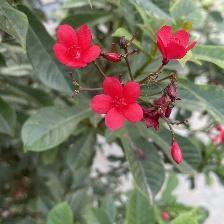jatropha: (91, 76, 149, 136)
